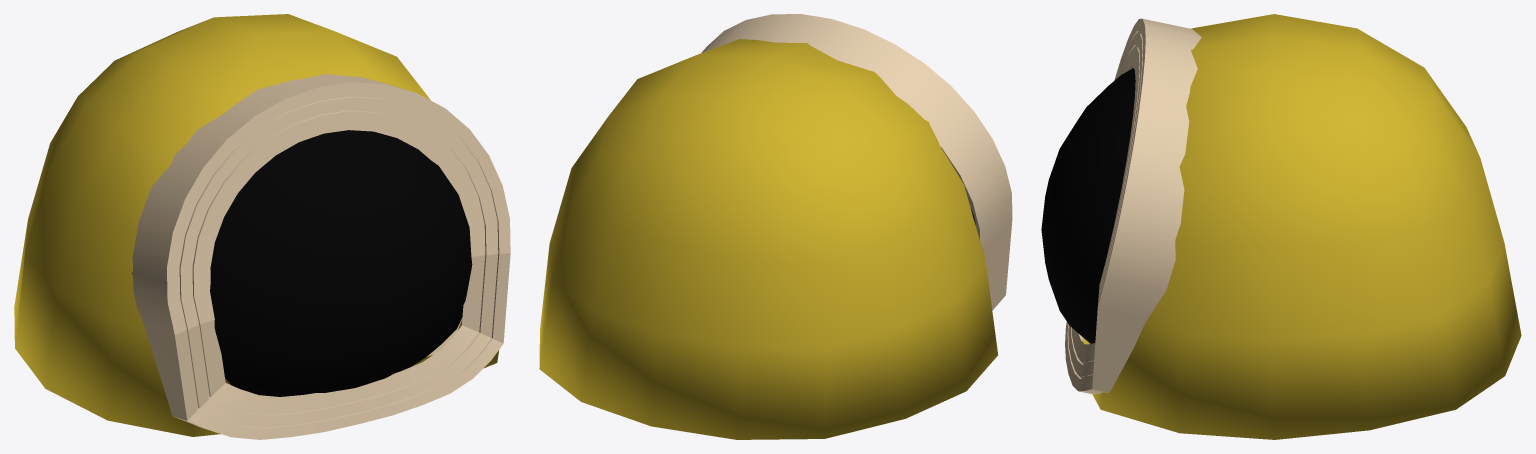
File: toy_monster_head6.fbx
3 views of the same model, side by side, from view 1: azimuth 30°, elevation 25°; view 2: azimuth 150°, elevation 25°; view 3: azimuth 270°, elevation 25° (orthographic). The views are drawn at different scales.
Parts seen in each view (by area): view 1: body, helmet, helmet border hollow; view 2: body, helmet border hollow; view 3: body, helmet border hollow, helmet.
Part boxes in pixels (x1,y1,x2,y2): body: (14,14,499,436); helmet: (132,130,472,396); helmet border hollow: (132,74,510,439); body: (539,39,997,439); helmet border hollow: (701,14,1012,310); body: (1082,14,1521,439); helmet border hollow: (1065,18,1201,394); helmet: (1041,68,1135,343).
Bounding box in the file's own units: 219 × 161 × 216.
